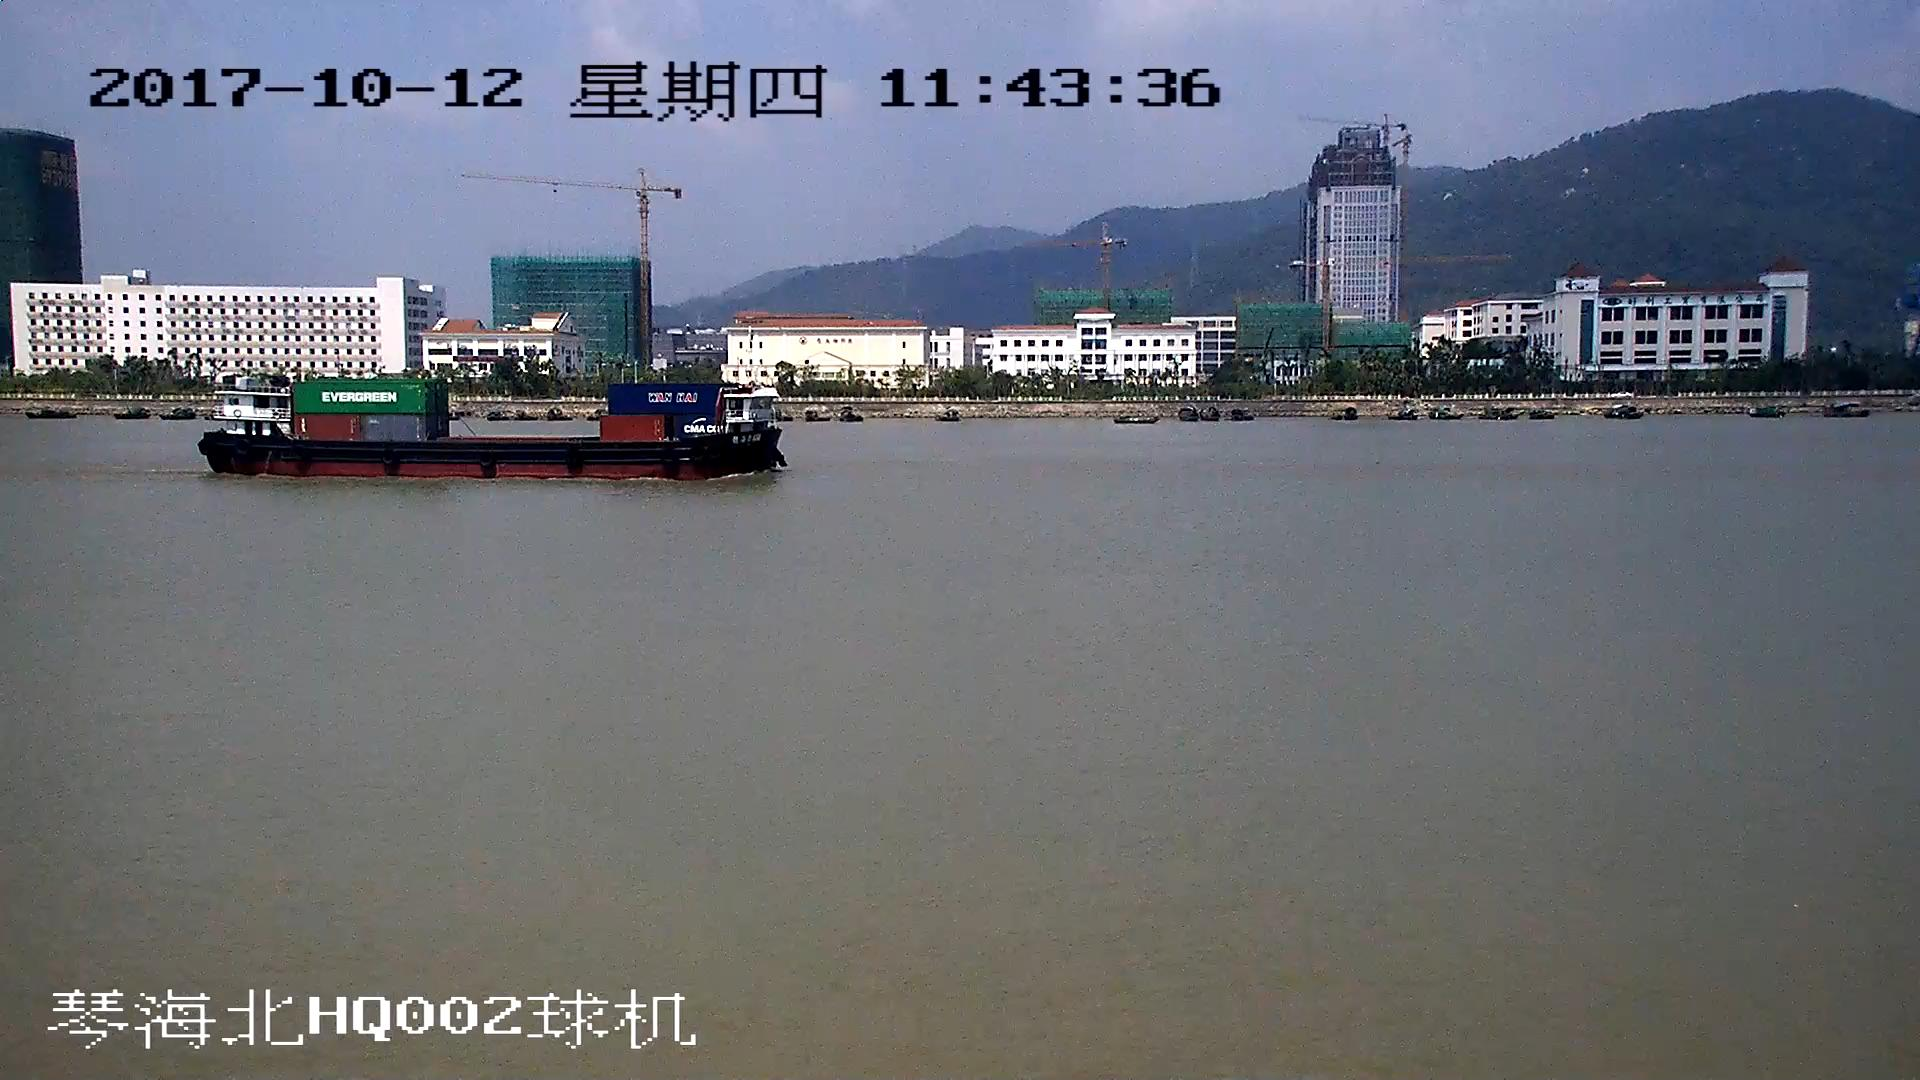container ship: (204, 375, 789, 483)
